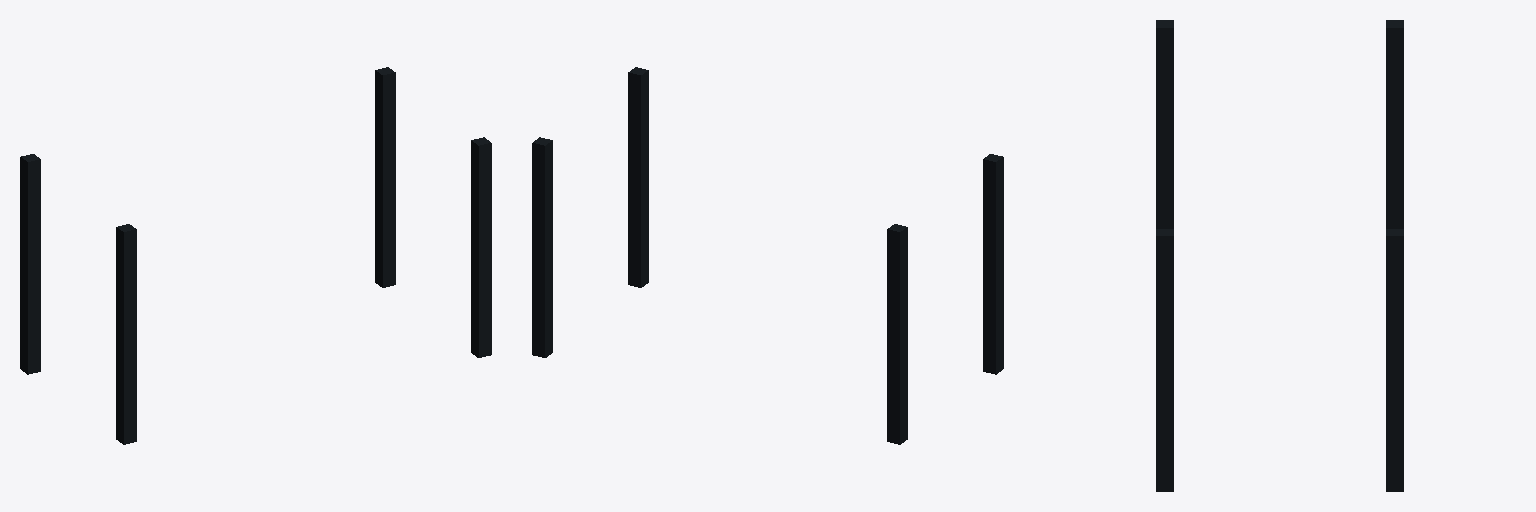
The robot description file, URDF, robot "rear_table":
<?xml version='1.0' encoding='utf-8'?>
<robot name="rear_table">
  <link name="rear_table__base">
    <visual>
      <origin xyz="0 0 -.025" />
      <geometry>
        <mesh filename="portable_resources/table_visual.obj" scale="1.5 1 .999" />
      </geometry>
    </visual>
    <collision>
      <origin xyz="0 0 -.025" />
      <geometry>
        <box size="1.35 .7 .05" />
      </geometry>
    </collision>
    <inertial>
      <mass value="20" />
      <inertia ixx="2" iyy="2" izz="2" ixy="0" ixz="0" iyz="0" />
    </inertial>
    <visual name="support_0">
      <origin xyz="-0.62 -0.29 -.405" />
      <geometry>
        <box size=".045 .045 .71" />
      </geometry>
      <material name="rear_table__support">
        <color rgba=".12 .14 .16 1" />
      </material>
    </visual>
    <collision name="support_0">
      <origin xyz="-0.62 -0.29 -.405" />
      <geometry>
        <box size=".045 .045 .71" />
      </geometry>
    </collision>
    <visual name="support_1">
      <origin xyz="-0.62 0.29 -.405" />
      <geometry>
        <box size=".045 .045 .71" />
      </geometry>
      <material name="rear_table__support">
        <color rgba=".12 .14 .16 1" />
      </material>
    </visual>
    <collision name="support_1">
      <origin xyz="-0.62 0.29 -.405" />
      <geometry>
        <box size=".045 .045 .71" />
      </geometry>
    </collision>
    <visual name="support_2">
      <origin xyz="0.62 -0.29 -.405" />
      <geometry>
        <box size=".045 .045 .71" />
      </geometry>
      <material name="rear_table__support">
        <color rgba=".12 .14 .16 1" />
      </material>
    </visual>
    <collision name="support_2">
      <origin xyz="0.62 -0.29 -.405" />
      <geometry>
        <box size=".045 .045 .71" />
      </geometry>
    </collision>
    <visual name="support_3">
      <origin xyz="0.62 0.29 -.405" />
      <geometry>
        <box size=".045 .045 .71" />
      </geometry>
      <material name="rear_table__support">
        <color rgba=".12 .14 .16 1" />
      </material>
    </visual>
    <collision name="support_3">
      <origin xyz="0.62 0.29 -.405" />
      <geometry>
        <box size=".045 .045 .71" />
      </geometry>
    </collision>
  </link>
</robot>

--- Facts derived from the render (not from the file) ---
Views: 3 orthographic renders of the robot side by side, from view 1: azimuth 30°, elevation 25°; view 2: azimuth 150°, elevation 25°; view 3: azimuth 270°, elevation 25°.
Robot: rear_table — 1 links, 0 joints (none); root link rear_table__base; default pose: every joint at zero.
Visible links, largest first — view 1: rear_table__base; view 2: rear_table__base; view 3: rear_table__base.
Link boxes in pixels (bbox=[...]): rear_table__base: bbox=[20, 67, 491, 444]; rear_table__base: bbox=[532, 67, 1003, 444]; rear_table__base: bbox=[1156, 20, 1403, 491].
Bounding box of the posed robot: 1.28 × 0.625 × 0.71 m (x, y, z).
0 mesh visuals loaded from 1 distinct referenced files (none loaded); not drawn: 1 (file found but could not be loaded).
